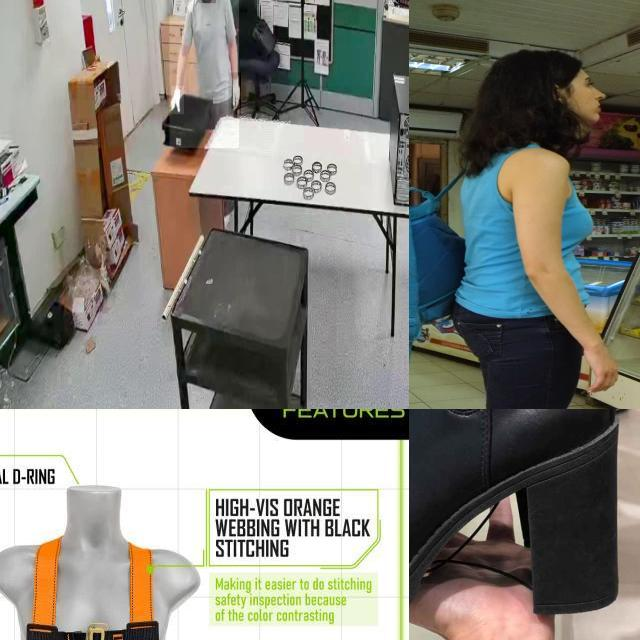Harness: (26, 538, 161, 640)
Sandals: (409, 409, 640, 640)
hand_glove: (228, 72, 242, 116), (171, 86, 185, 115)
person: (169, 0, 239, 149)
